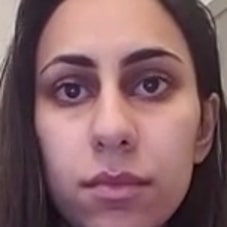awake: (38, 40, 187, 209)
